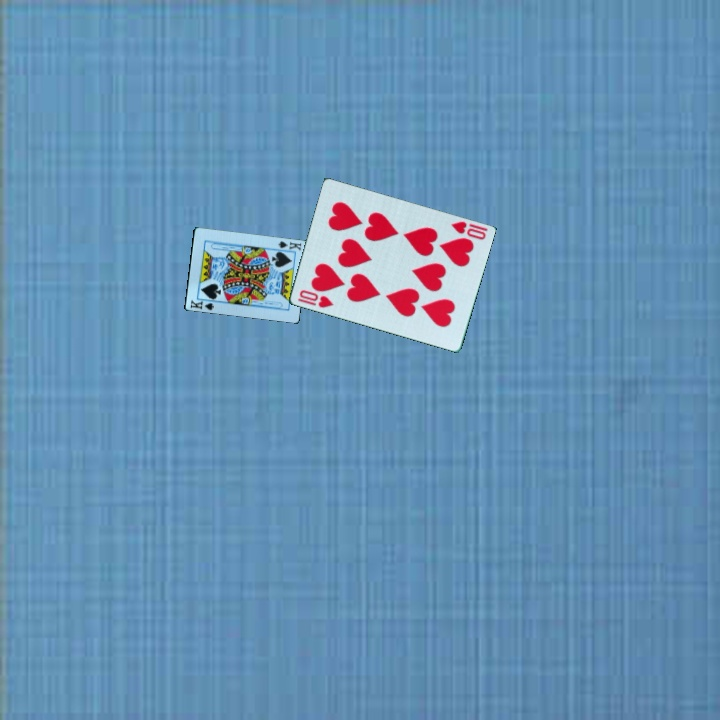10h: (447, 218, 490, 243), (294, 286, 336, 311)
Ks: (187, 296, 217, 313), (275, 237, 304, 254)
